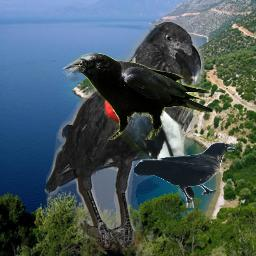Crow: (46, 21, 204, 250), (62, 53, 212, 140), (133, 142, 237, 203)
Woodpecker: (104, 87, 194, 208)
